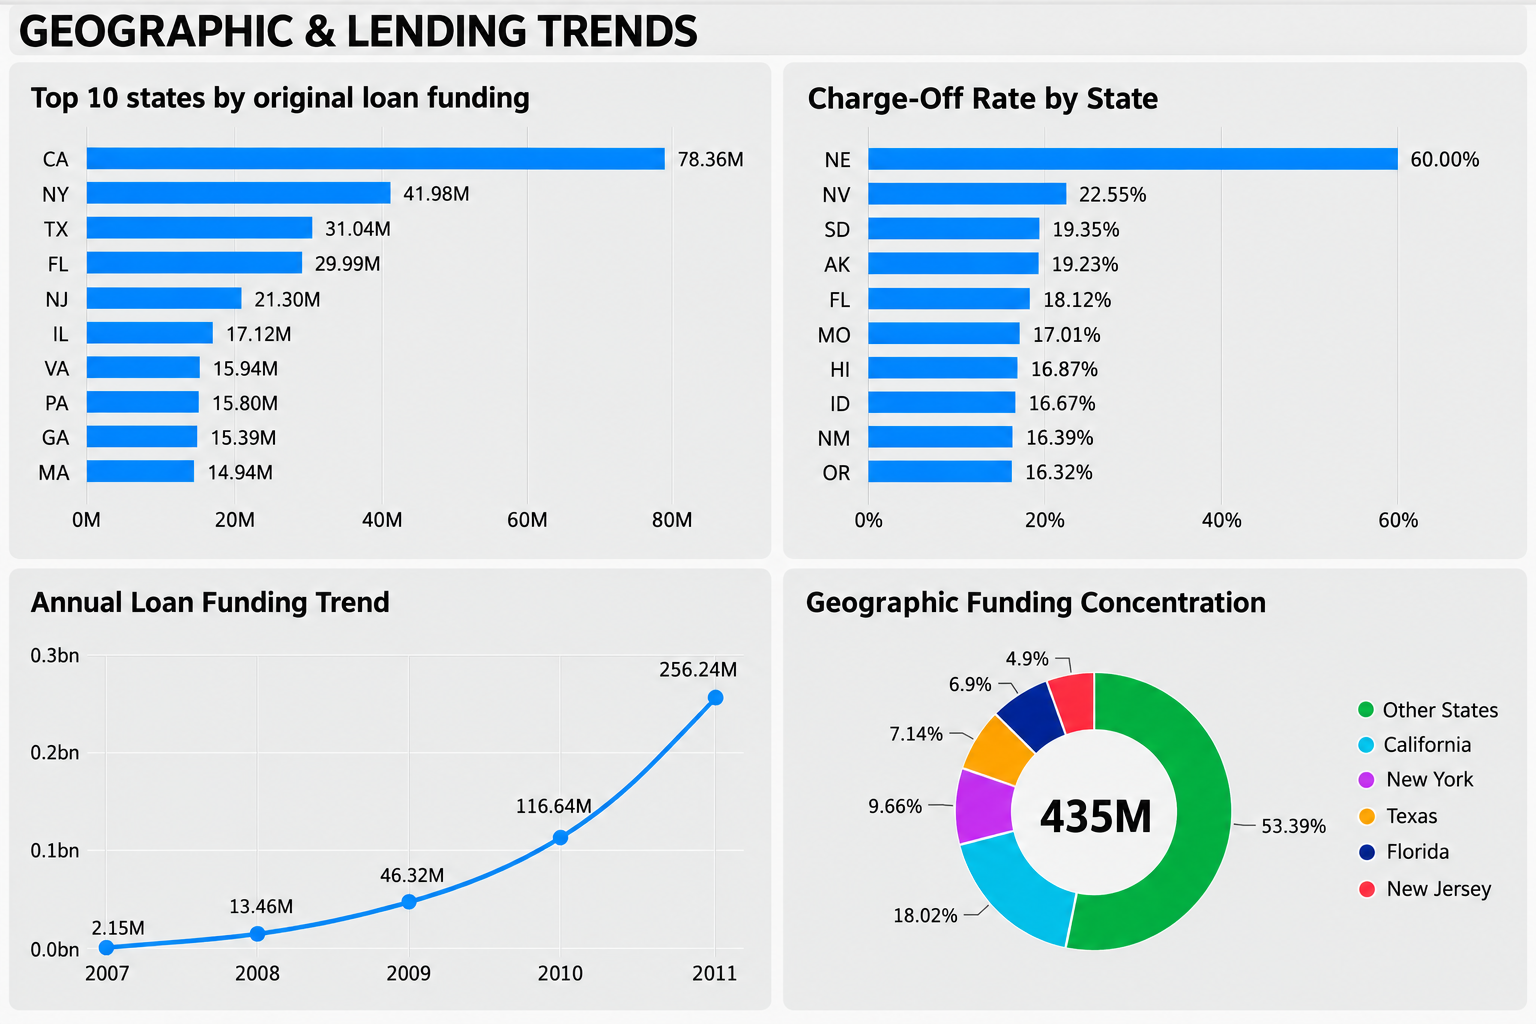

This screenshot's page, from the dashboard's own definition file:
{"tool":"powerbi","page":{"name":"Geographic & Lending Trends","canvas":[1920,1080],"ordinal":4},"visuals":[{"type":"textbox","box":[0,0,1067.1,37.1],"z":0},{"type":"clusteredBarChart","title":"Top 10 states by original loan funding","fields":{"Category":["loan.addr_state"],"Y":["loan.Total Funded Amount"]},"box":[0,37,537,333],"z":1},{"type":"clusteredBarChart","title":"Charge-Off Rate by State","fields":{"Category":["loan.addr_state"],"Y":["loan.Resolved Charged Off Rate"]},"box":[550,37.5,517.5,332.5],"z":2},{"type":"lineChart","title":"Annual Loan Funding Trend","fields":{"Category":["loan.Loan_Year"],"Y":["loan.Total Funded Amount"]},"box":[0,380,537,333],"z":3},{"type":"donutChart","title":"Geographic Funding Concentration","fields":{"Category":["loan.Funding State Group"],"Y":["loan.Total Funded Amount"]},"box":[550,380,517.5,332.5],"z":4}]}

Visuals, with their boxes on the page's 1920x1080 design canvas (x1, y1, x2, y2). These are canvas units, not pixel positions in the 1536x1024 screenshot, which may show the page scaled, cropped or inside an application window:
textbox: 0:0:1067:37
"Top 10 states by original loan funding" clusteredBarChart: 0:37:537:370
"Charge-Off Rate by State" clusteredBarChart: 550:38:1068:370
"Annual Loan Funding Trend" lineChart: 0:380:537:713
"Geographic Funding Concentration" donutChart: 550:380:1068:712
